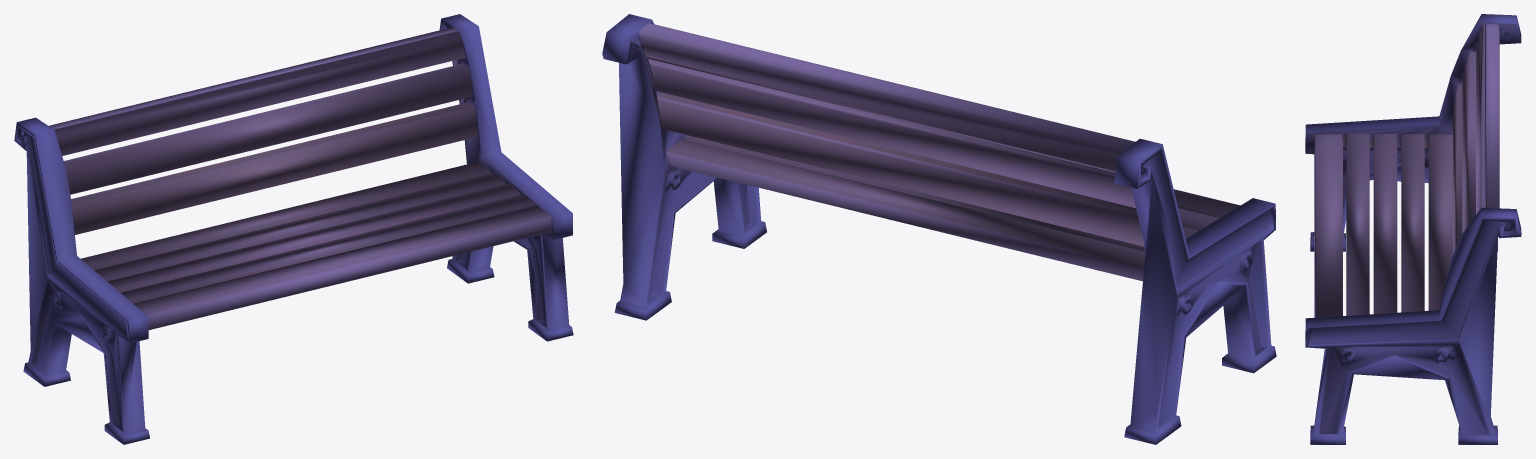
File: model.progressive.glb
3 views of the same model, side by side, from view 1: azimuth 30°, elevation 25°; view 2: azimuth 150°, elevation 25°; view 3: azimuth 270°, elevation 25° (orthographic). The views are drawn at different scales.
Parts seen in each view (by area): view 1: mesh_input; view 2: mesh_input; view 3: mesh_input.
Boxes of the visible parts, x1,y1,x2,y2 form: mesh_input: (14, 14, 573, 444); mesh_input: (602, 14, 1276, 444); mesh_input: (1305, 14, 1521, 444).
Size of the model in its own units: 1.89 by 0.9745 by 0.8417.
Materials: 1 (1 with a texture image).
